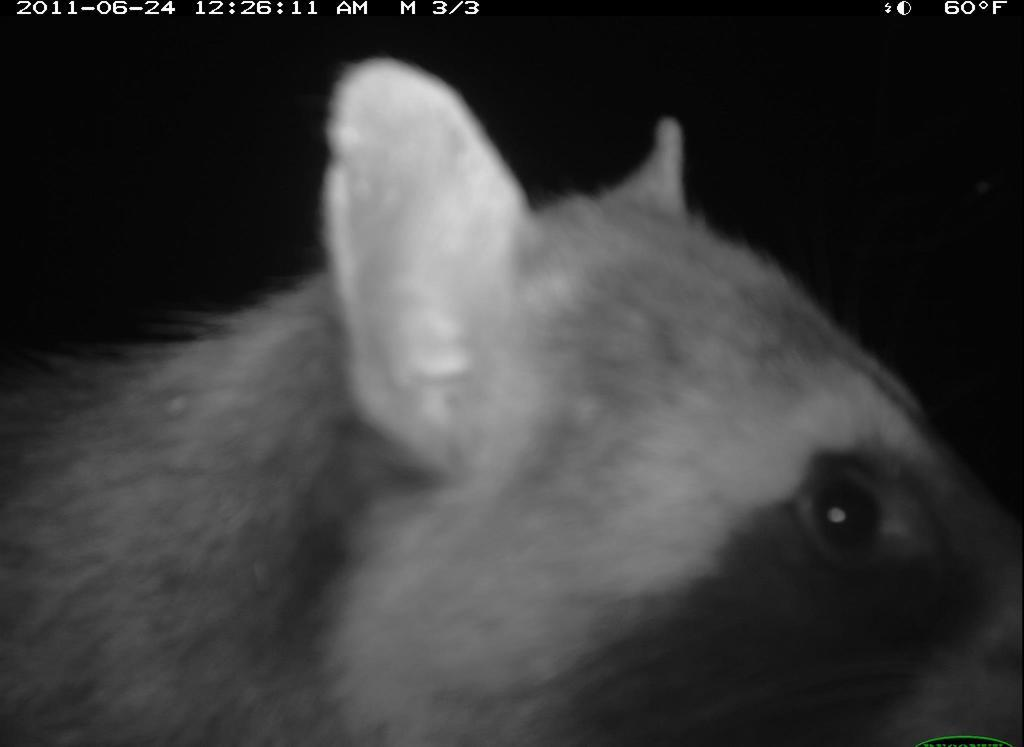raccoon: (3, 57, 1022, 747)
